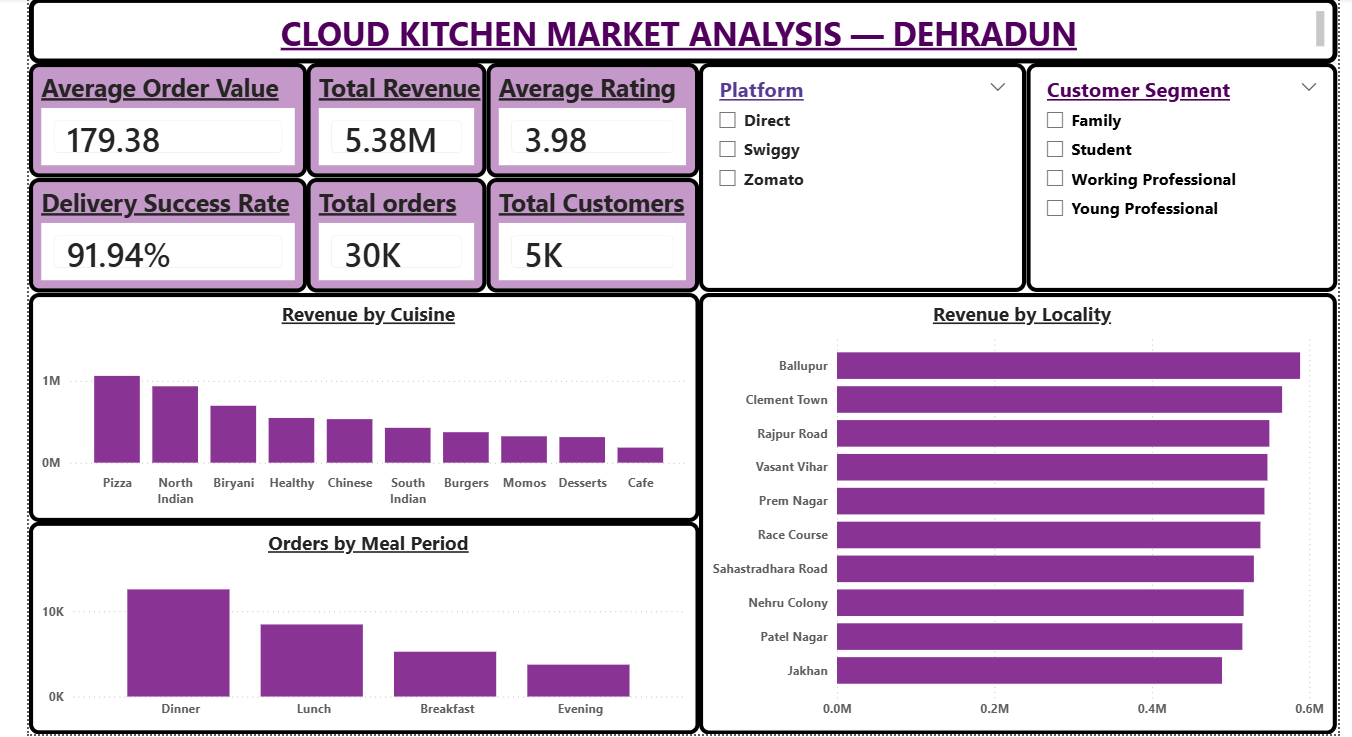

Layout of this report page (visuals, bound fields, positions):
{"tool":"powerbi","page":{"name":"Executive Overview","canvas":[1280,720],"ordinal":0},"visuals":[{"type":"textbox","box":[0,0,1280,64],"z":0},{"type":"cardVisual","title":"Total orders","fields":{"Data":["orders.Total Orders"]},"box":[272,176,176,112],"z":1000},{"type":"cardVisual","title":"Total Revenue","fields":{"Data":["orders.Total Revenue"]},"box":[272,64,176,112],"z":2000},{"type":"cardVisual","title":"Average Order Value","fields":{"Data":["orders.Average Order Value"]},"box":[0,64,272,112],"z":3000},{"type":"cardVisual","title":"Total Customers","fields":{"Data":["orders.Total Customers"]},"box":[448,176,208,112],"z":4000},{"type":"cardVisual","title":"Delivery Success Rate","fields":{"Data":["orders.Delivery Success Rate"]},"box":[0,176,272,112],"z":5000},{"type":"cardVisual","title":"Average Rating","fields":{"Data":["orders.Average Rating"]},"box":[448,64,208,112],"z":6000},{"type":"clusteredColumnChart","title":"Revenue by Cuisine","fields":{"Category":["orders.ordered_cuisine"],"Y":["orders.Total Revenue"]},"box":[0,288,656,224],"z":7000},{"type":"clusteredColumnChart","title":"Orders by Meal Period","fields":{"Category":["orders.meal_period"],"Y":["orders.Total Orders"]},"box":[0,512,656,208],"z":8000},{"type":"clusteredBarChart","title":"Revenue by Locality","fields":{"Category":["localities.locality_name"],"Y":["orders.Total Revenue"]},"box":[656,288,624,432],"z":9000},{"type":"slicer","fields":{"Values":["orders.customer_segment"]},"box":[976,64,304,224],"z":10000},{"type":"slicer","title":"Platform","fields":{"Values":["orders.platform"]},"box":[656,64,320,224],"z":11000}]}

Visuals, with their boxes in screenshot pixels (x1, y1, x2, y2):
textbox: select_region(39, 0, 1329, 65)
"Total orders" cardVisual: select_region(313, 177, 490, 290)
"Total Revenue" cardVisual: select_region(313, 65, 490, 177)
"Average Order Value" cardVisual: select_region(39, 65, 313, 177)
"Total Customers" cardVisual: select_region(490, 177, 700, 290)
"Delivery Success Rate" cardVisual: select_region(39, 177, 313, 290)
"Average Rating" cardVisual: select_region(490, 65, 700, 177)
"Revenue by Cuisine" clusteredColumnChart: select_region(39, 290, 700, 516)
"Orders by Meal Period" clusteredColumnChart: select_region(39, 516, 700, 726)
"Revenue by Locality" clusteredBarChart: select_region(700, 290, 1329, 726)
slicer - orders.customer_segment: select_region(1022, 65, 1329, 290)
"Platform" slicer: select_region(700, 65, 1022, 290)
